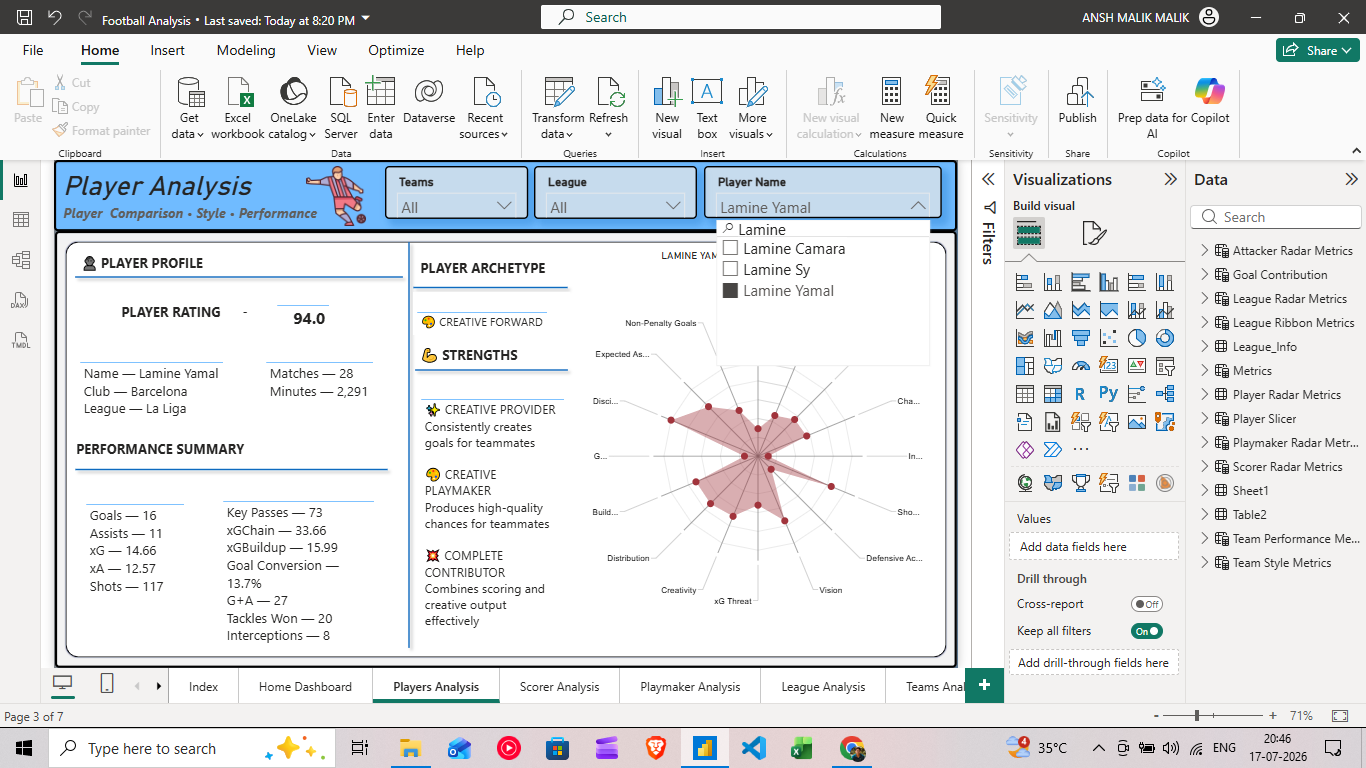

The dashboard page shown, as its layout file describes it:
{"tool":"powerbi","page":{"name":"Players Analysis","canvas":[1280,720],"ordinal":2},"visuals":[{"type":"textbox","title":"Player  Analysis","box":[0,0,1279.8,100.6],"z":0},{"type":"slicer","fields":{"Values":["Table2.Clean Team"]},"box":[469.1,8.5,202.7,75.1],"z":1000},{"type":"slicer","fields":{"Values":["Table2.player_name"]},"box":[921.3,8.5,337.3,73.7],"z":2000},{"type":"image","box":[330.2,8.5,138.9,85],"z":3000},{"type":"shape","title":"PLAYER SCOUTING REPORT","box":[1.4,100.6,1278.4,619.4],"z":4000},{"type":"shape","box":[365.7,107.7,275,592.4],"z":5000},{"type":"textbox","box":[31.2,127.6,188.5,38.3],"z":6000},{"type":"shape","box":[21.3,134.6,481.9,62.4],"z":7000},{"type":"textbox","box":[21.3,391.2,378.4,36.9],"z":8000},{"type":"shape","box":[21.3,418.1,460.6,41.1],"z":9000},{"type":"shape","box":[503.1,284.9,233.9,25.5],"z":10000},{"type":"textbox","box":[514.5,258,157.3,39.7],"z":11000},{"type":"tableEx","fields":{"Values":["League_Info.Player Profile Left"]},"box":[31.2,258,240.9,121.9],"z":12000},{"type":"tableEx","fields":{"Values":["League_Info.Player Profile Right"]},"box":[294.8,258,184.3,133.2],"z":13000},{"type":"tableEx","fields":{"Values":["League_Info.Performance Summary Left"]},"box":[39.7,459.2,180,204.1],"z":14000},{"type":"tableEx","fields":{"Values":["League_Info.Performance Summary Right"]},"box":[233.9,455,235.3,240.9],"z":15000},{"type":"tableEx","fields":{"Values":["League_Info.Player Strengths1"]},"box":[514.5,310.4,222.5,385.5],"z":16000},{"type":"tableEx","fields":{"Values":["League_Info.Player Rating"]},"box":[310.4,177.2,102,80.8],"z":17000},{"type":"textbox","box":[514.5,134.6,197,42.5],"z":18000},{"type":"shape","box":[500.3,164.4,236.7,32.6],"z":19000},{"type":"tableEx","fields":{"Values":["League_Info.Player Archetype"]},"box":[508.8,187.1,222.5,60.9],"z":20000},{"type":"slicer","title":"Leagues","fields":{"Values":["Table2.League"]},"box":[680.3,8.5,231,75.1],"z":21000},{"type":"RadarChart1446119667547","fields":{"Category":["Player Radar Metrics.Metrics"],"Y":["Player Radar Metrics.Metric Score"]},"box":[737,127.6,521.6,568.3],"z":22000},{"type":"textbox","box":[90.7,197,204.1,41.1],"z":23000}]}

Visuals, with their boxes on the page's 1280x720 design canvas (x1, y1, x2, y2). These are canvas units, not pixel positions in the 1366x768 screenshot, which may show the page scaled, cropped or inside an application window:
"Player  Analysis" textbox: crop(0, 0, 1280, 101)
slicer - Table2.Clean Team: crop(469, 8, 672, 84)
slicer - Table2.player_name: crop(921, 8, 1259, 82)
image: crop(330, 8, 469, 94)
"PLAYER SCOUTING REPORT" shape: crop(1, 101, 1280, 720)
shape: crop(366, 108, 641, 700)
textbox: crop(31, 128, 220, 166)
shape: crop(21, 135, 503, 197)
textbox: crop(21, 391, 400, 428)
shape: crop(21, 418, 482, 459)
shape: crop(503, 285, 737, 310)
textbox: crop(514, 258, 672, 298)
tableEx - League_Info.Player Profile Left: crop(31, 258, 272, 380)
tableEx - League_Info.Player Profile Right: crop(295, 258, 479, 391)
tableEx - League_Info.Performance Summary Left: crop(40, 459, 220, 663)
tableEx - League_Info.Performance Summary Right: crop(234, 455, 469, 696)
tableEx - League_Info.Player Strengths1: crop(514, 310, 737, 696)
tableEx - League_Info.Player Rating: crop(310, 177, 412, 258)
textbox: crop(514, 135, 712, 177)
shape: crop(500, 164, 737, 197)
tableEx - League_Info.Player Archetype: crop(509, 187, 731, 248)
"Leagues" slicer: crop(680, 8, 911, 84)
RadarChart1446119667547 - Player Radar Metrics.Metrics x Player Radar Metrics.Metric Score: crop(737, 128, 1259, 696)
textbox: crop(91, 197, 295, 238)
